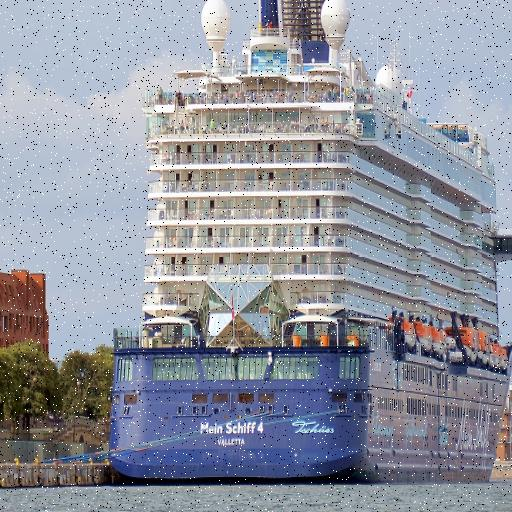cruises: (109, 1, 512, 492)
